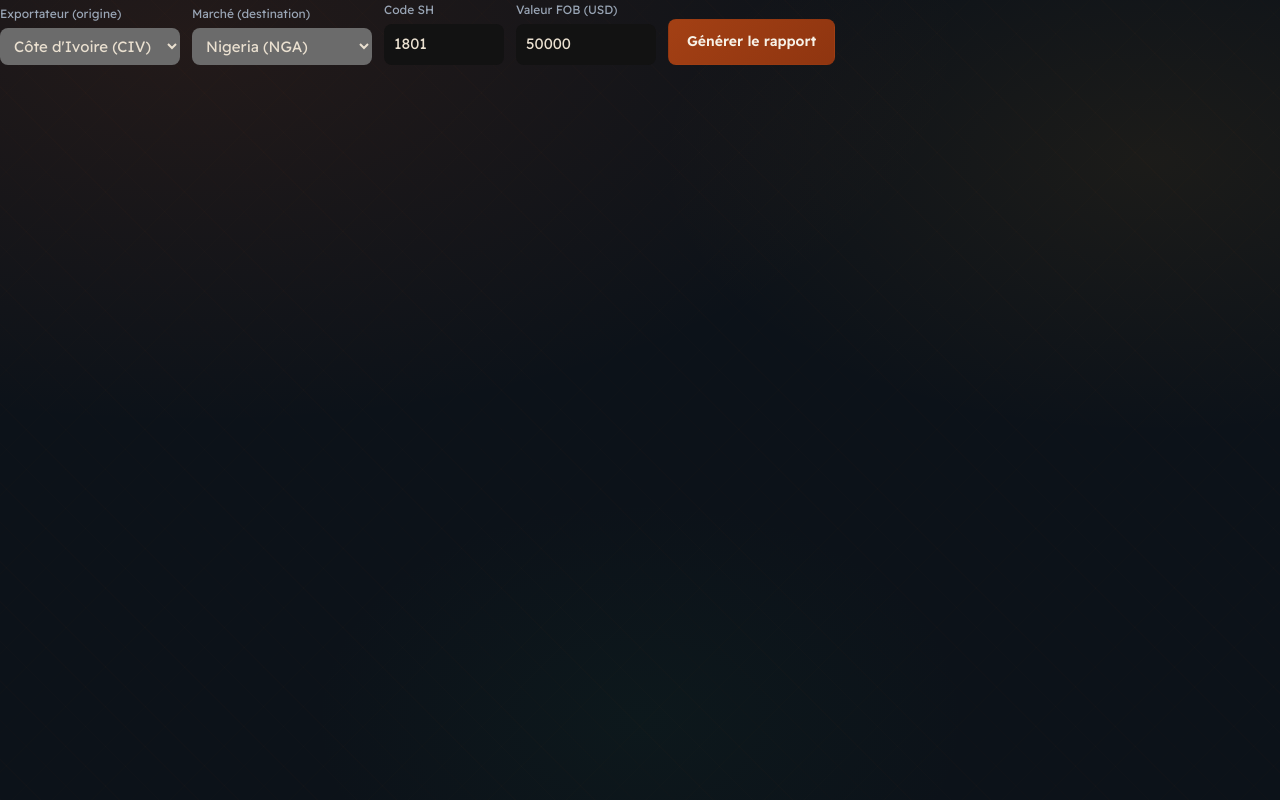
Scenario: BilateralView — substitution feasibility card › does not render the card when the report has no substitution_feasibility field
Click the button with test id "report-run".
click(752, 42)  # box [668,20,835,65]
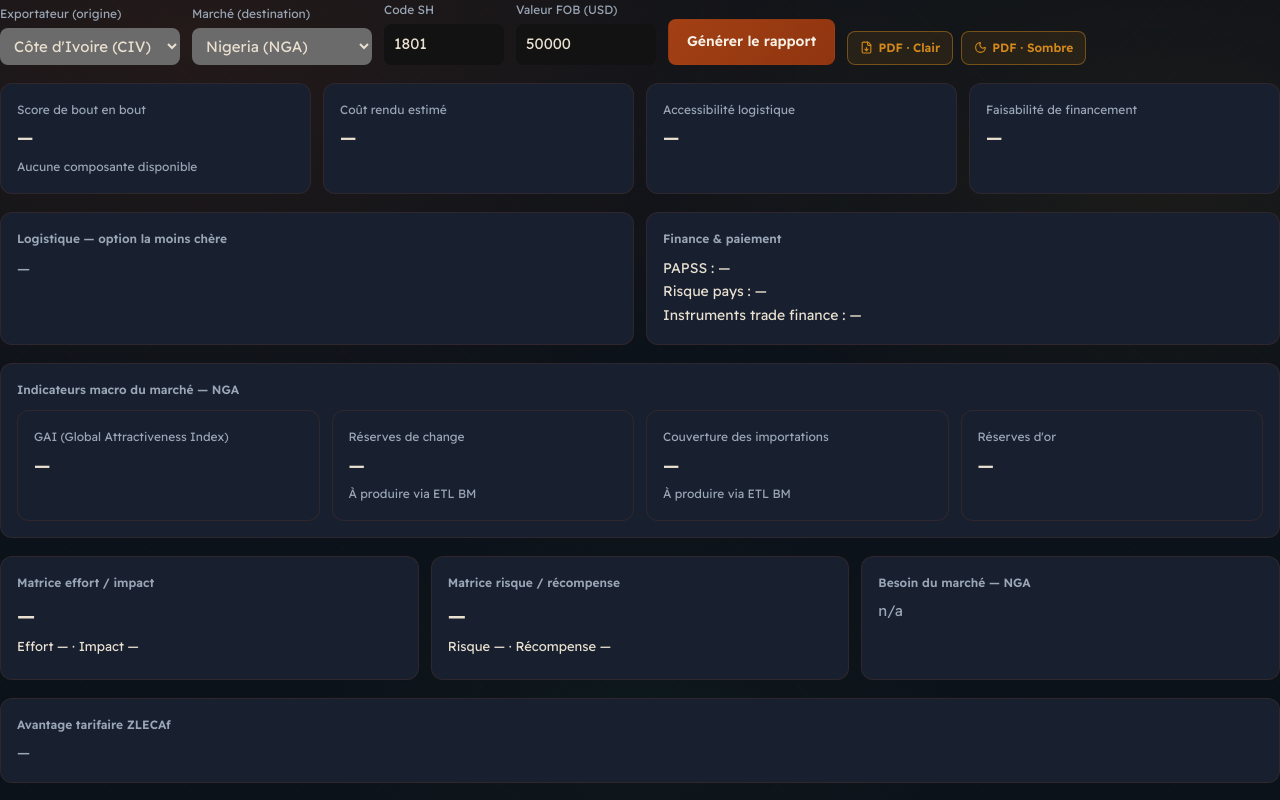
Result: the element with test id "report-national-need" is shown at [861,556,1279,680]
